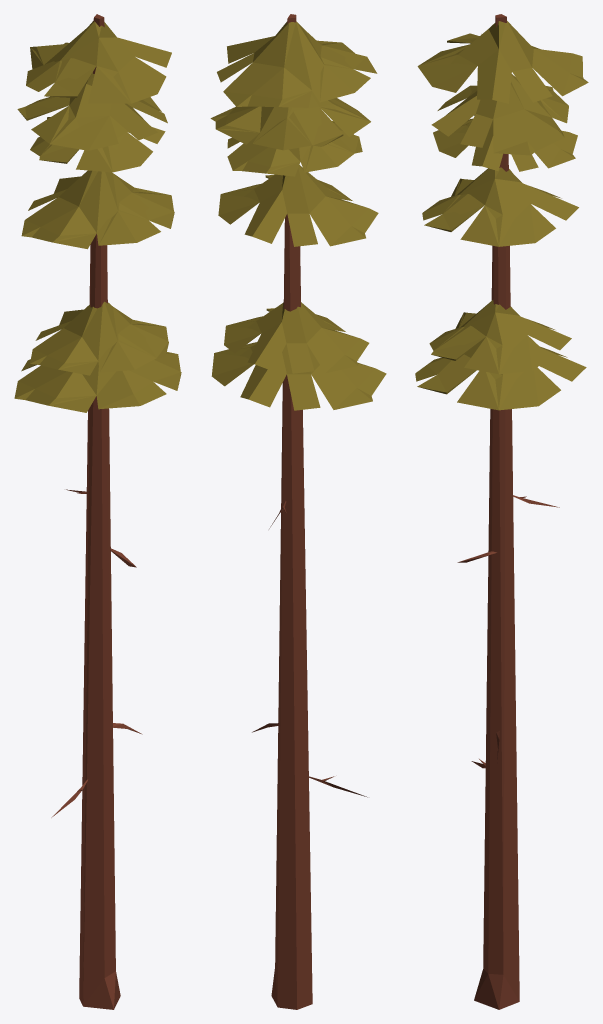
File: pine_healthy_type_8_LOD2.fbx
3 views of the same model, side by side, from view 1: azimuth 30°, elevation 25°; view 2: azimuth 150°, elevation 25°; view 3: azimuth 270°, elevation 25° (orthographic).
Parts seen in each view (by area): view 1: pine_trunk.016; view 2: pine_trunk.016; view 3: pine_trunk.016.
Boxes of the visible parts, x1=… form: pine_trunk.016: x1=14, y1=14, x2=181, y2=1009; pine_trunk.016: x1=210, y1=14, x2=386, y2=1009; pine_trunk.016: x1=415, y1=14, x2=588, y2=1009.
Bounding box in the file's own units: 493 × 2872 × 460.
